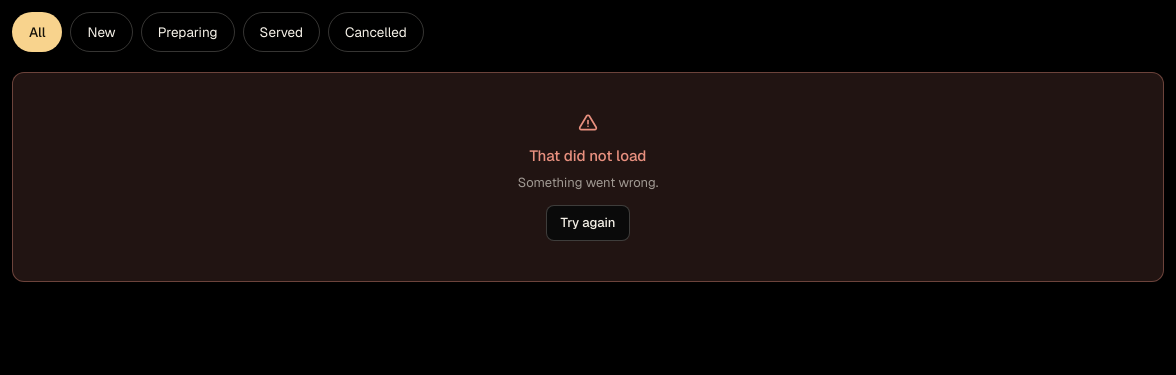
Test: TableOrdersPage › says a load failed, and tries again on request
Expected: the text "Something went wrong." is shown, 518,172 -> 658,193
Click the button "Try again" at [588, 223], box 546,205 -> 630,241
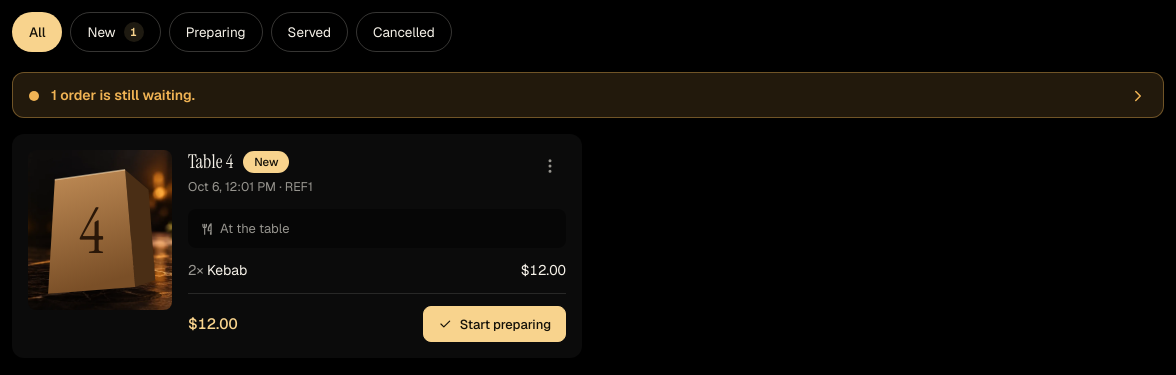
Now the element "Table 4" is shown, box 12,134 -> 582,358
